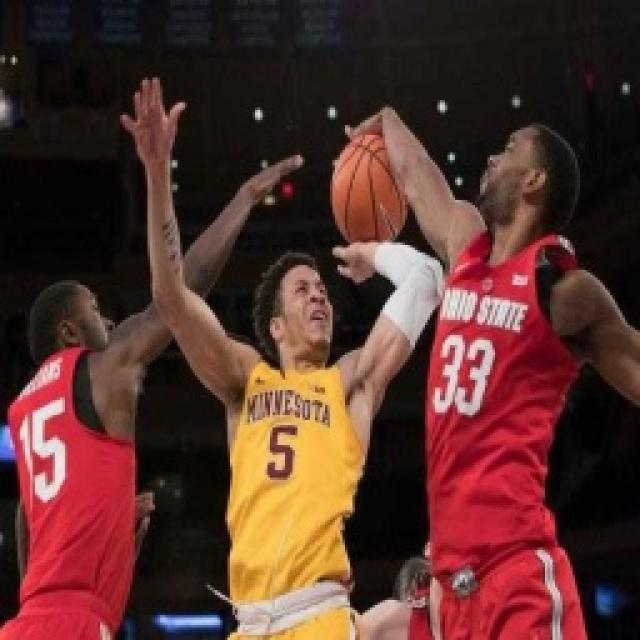rim: (321, 121, 422, 257)
